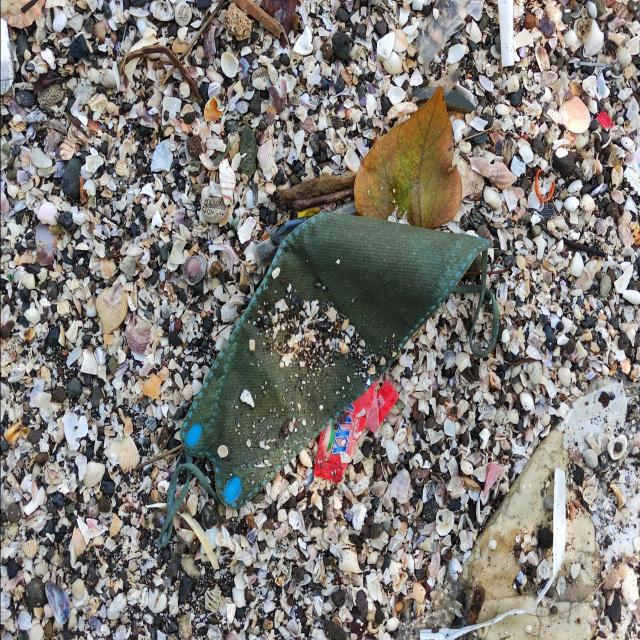plastic_waste: (313, 382, 398, 483)
textile_waste: (190, 217, 487, 504)
